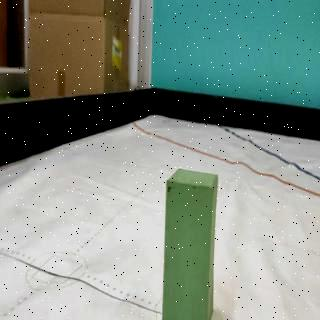greenbox: (160, 167, 220, 320)
